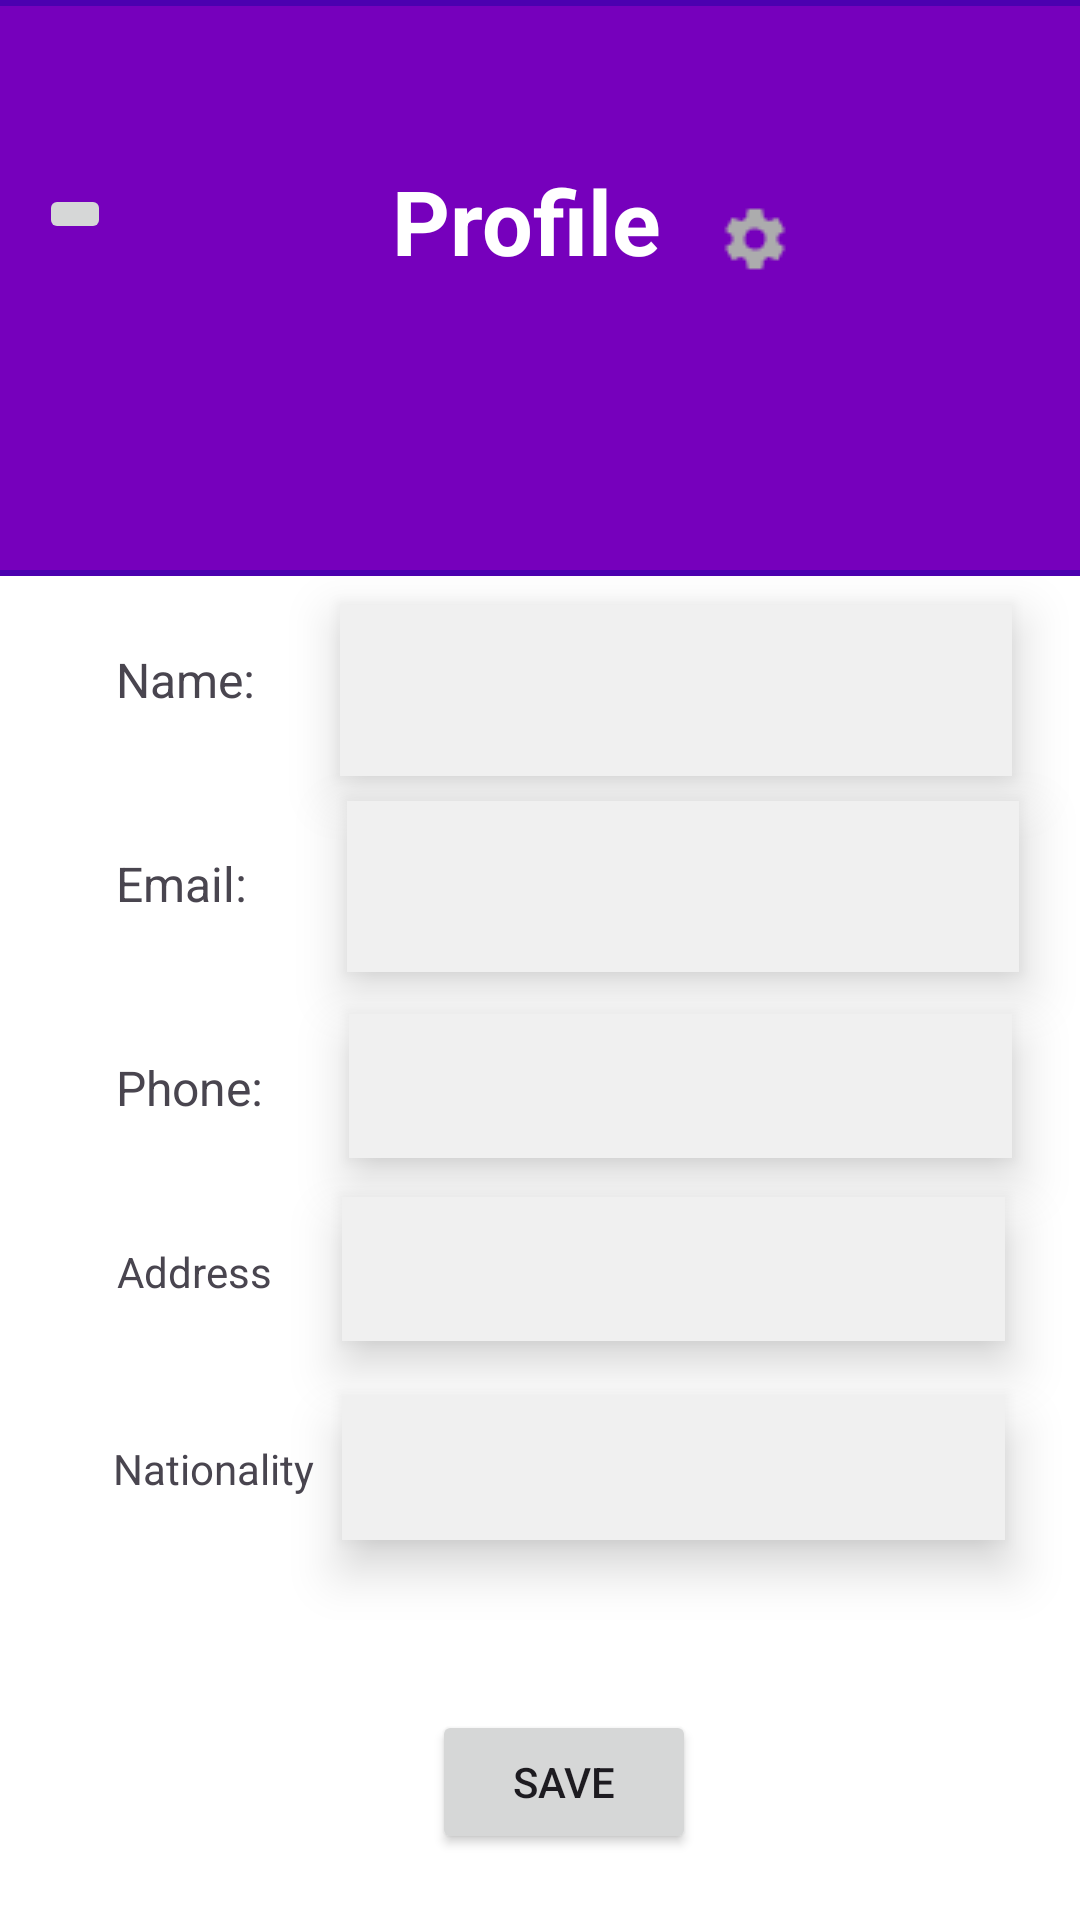

Icon bounding boxes for this 1080w x 1920h phone screenshot, format (left=x1, top=y1, right=x2, bottom=y2):
settings: (left=724, top=208, right=786, bottom=270)
